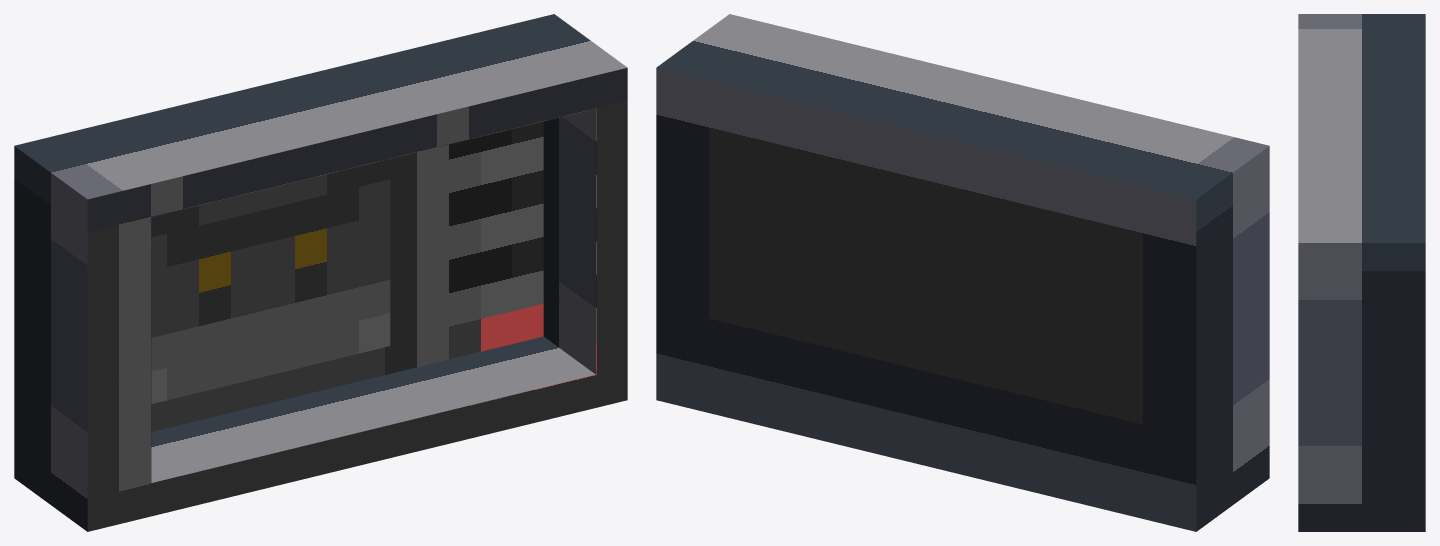
File: apc_cover_removed_empty.glb
The picture shows the model from 3 angles, left to right: view 1: azimuth 30°, elevation 25°; view 2: azimuth 150°, elevation 25°; view 3: azimuth 270°, elevation 25°; orthographic projection. The views are drawn at different scales.
Parts seen in each view (by area): view 1: Lined_Enclosure, Removable_Control_Board, Interior_Backplate; view 2: Lined_Enclosure; view 3: Lined_Enclosure.
Part boxes in pixels (x1,y1,x2,y2): Lined_Enclosure: [14, 14, 627, 531]; Removable_Control_Board: [151, 159, 390, 404]; Interior_Backplate: [151, 121, 543, 431]; Lined_Enclosure: [656, 14, 1269, 531]; Lined_Enclosure: [1298, 14, 1425, 531].
Size of the model in its own units: 0.4781 by 0.2812 by 0.1125.
1 material, 1 textured.
